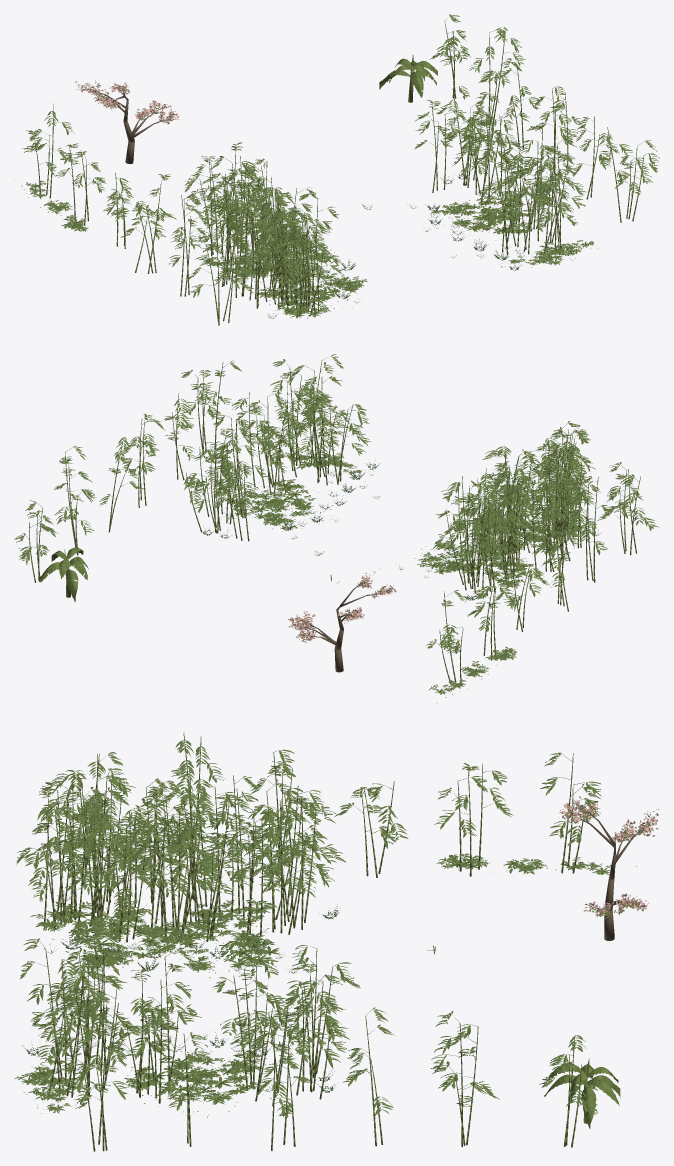
The model's file is xiaoxiangguan.glb.
3 renders of one model, top to bottom at view 1: azimuth 30°, elevation 25°; view 2: azimuth 150°, elevation 25°; view 3: azimuth 270°, elevation 25°, orthographic. The views are drawn at different scales.
Visible parts, largest first — view 1: Mobile_xiaoxiangguan_botanical_bamboo, Mobile_xiaoxiangguan_botanical_stem, Mobile_xiaoxiangguan_plants, Mobile_xiaoxiangguan_botanical_petal, Mobile_xiaoxiangguan_botanical_banana; view 2: Mobile_xiaoxiangguan_botanical_bamboo, Mobile_xiaoxiangguan_botanical_stem, Mobile_xiaoxiangguan_plants, Mobile_xiaoxiangguan_botanical_banana, Mobile_xiaoxiangguan_botanical_petal; view 3: Mobile_xiaoxiangguan_botanical_bamboo, Mobile_xiaoxiangguan_botanical_stem, Mobile_xiaoxiangguan_plants, Mobile_xiaoxiangguan_botanical_banana, Mobile_xiaoxiangguan_botanical_petal.
Boxes of the visible parts, box(x1,y1,x2,y2) form: Mobile_xiaoxiangguan_botanical_bamboo: box(22, 14, 659, 318); Mobile_xiaoxiangguan_botanical_stem: box(32, 19, 647, 325); Mobile_xiaoxiangguan_plants: box(84, 88, 524, 318); Mobile_xiaoxiangguan_botanical_petal: box(75, 80, 179, 124); Mobile_xiaoxiangguan_botanical_banana: box(379, 55, 437, 97); Mobile_xiaoxiangguan_botanical_bamboo: box(14, 354, 659, 694); Mobile_xiaoxiangguan_botanical_stem: box(24, 356, 641, 685); Mobile_xiaoxiangguan_plants: box(200, 460, 600, 672); Mobile_xiaoxiangguan_botanical_banana: box(39, 547, 88, 601); Mobile_xiaoxiangguan_botanical_petal: box(288, 573, 396, 643); Mobile_xiaoxiangguan_botanical_bamboo: box(15, 740, 654, 1117); Mobile_xiaoxiangguan_botanical_stem: box(32, 732, 617, 1151); Mobile_xiaoxiangguan_plants: box(22, 809, 651, 1092); Mobile_xiaoxiangguan_botanical_banana: box(544, 1058, 620, 1128); Mobile_xiaoxiangguan_botanical_petal: box(558, 796, 658, 918).
Bounding box in the file's own units: 33.21 × 7.13 × 28.94.
Materials: 6 (5 with a texture image).
